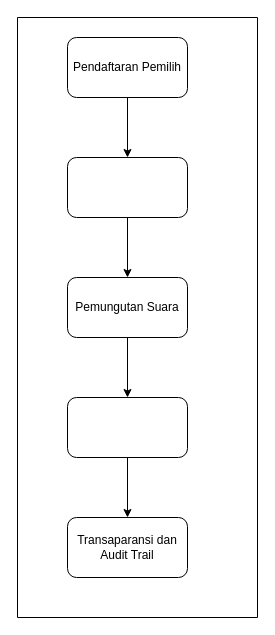
The diagram is 275 pixels wide and 635 high, and some of its shapes have lost their labels. The shapes that lost their labels are listed below. From the top down, each one's centre as x and y in pixels, then its label:
the point at 127,187: Pengaturan Kandidat
the point at 127,427: Perhitungan Suara
